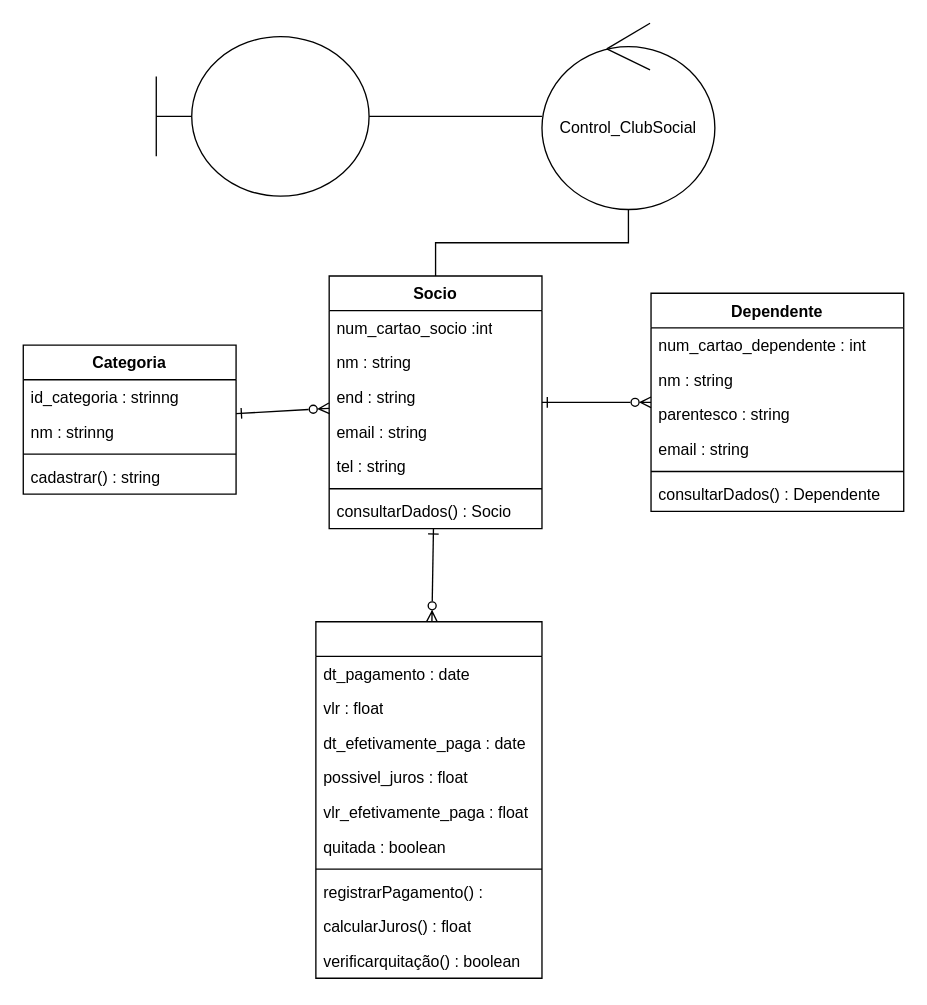
Image size: 927x1005. Some labels were removed from this diagram. Here are the shapes that lost their labels. From the top down, the box of each, then its label:
(155, 35, 369, 196): Interface_ClubSocial
(315, 620, 542, 978): mensalidade
